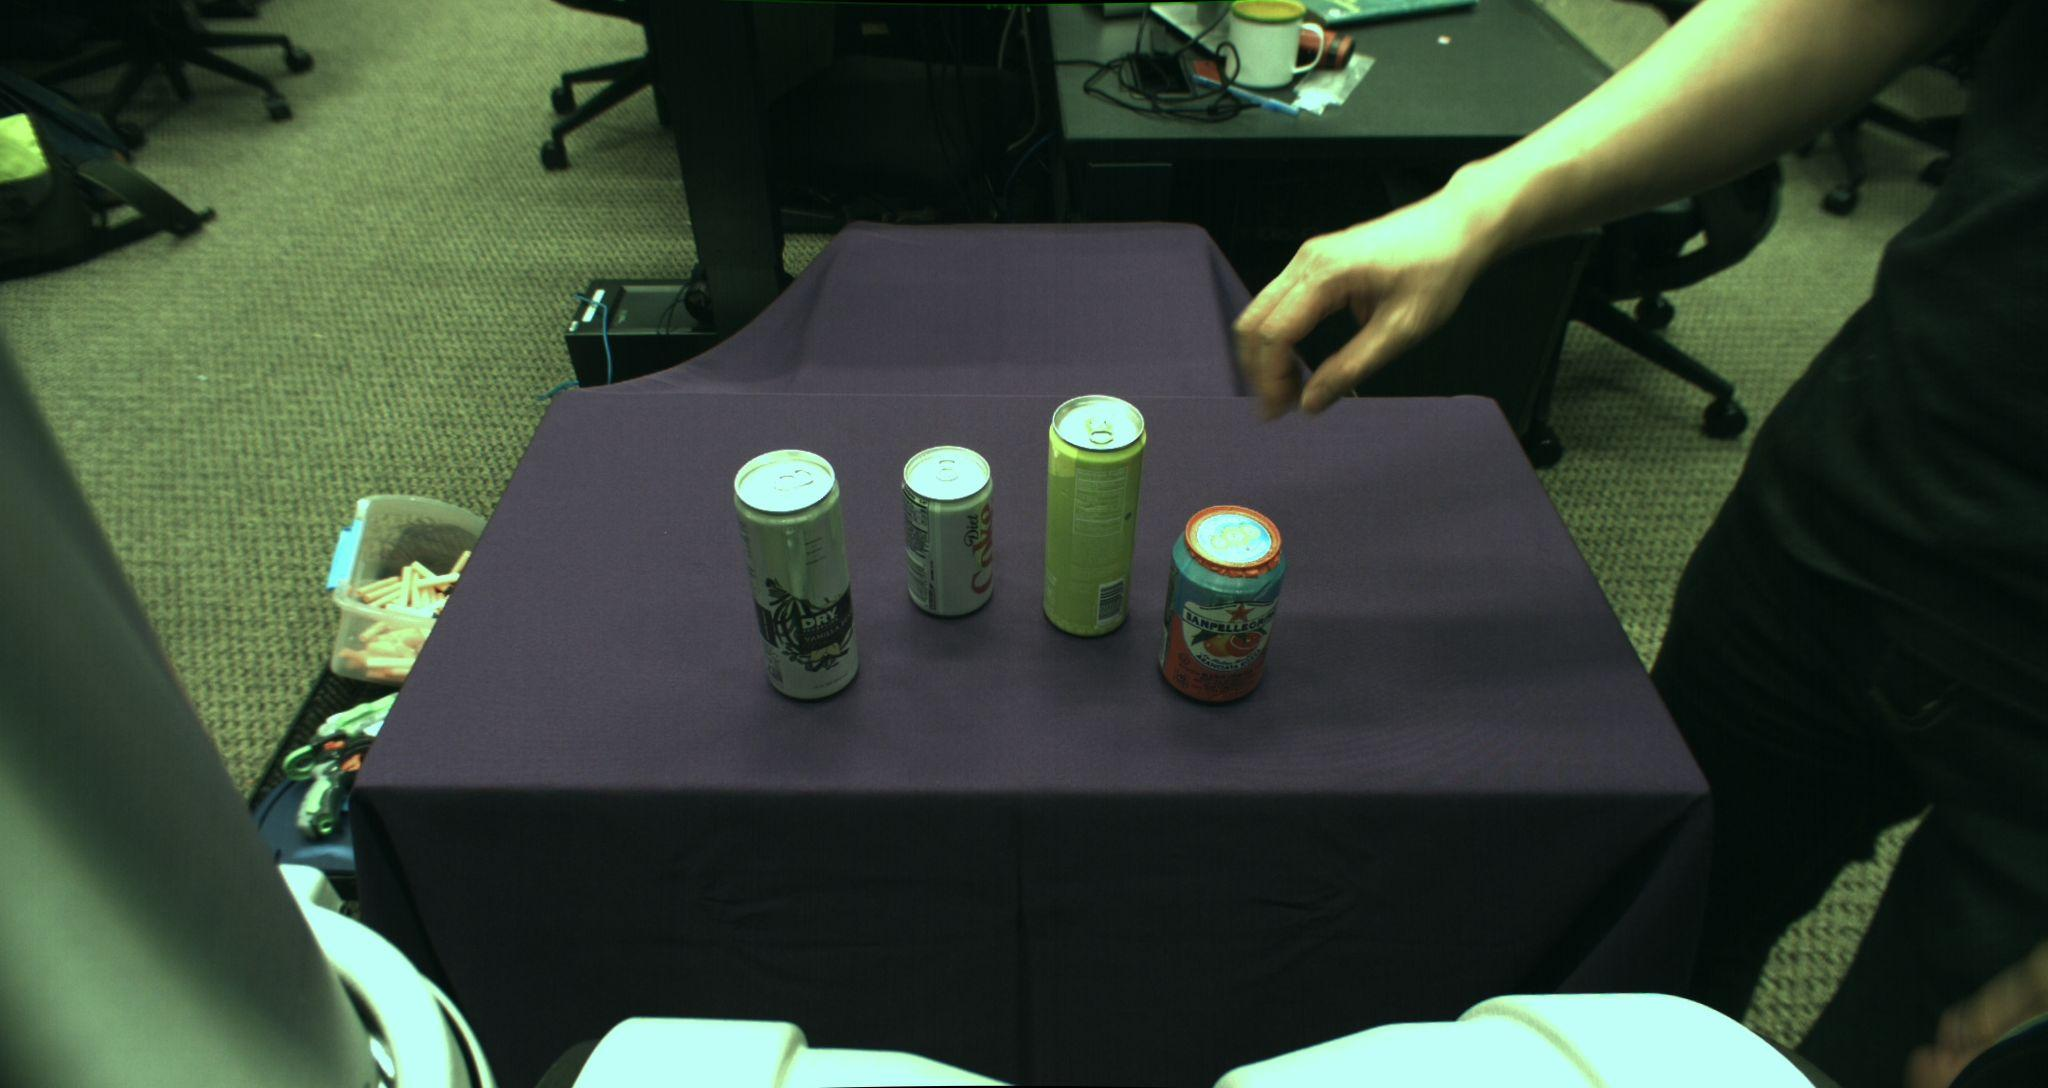can_diet_coke_small: (899, 444, 994, 616)
can_dry_sparkling_vanilla_bean: (731, 448, 860, 700)
can_izze_fusions_lemon_lime: (1042, 396, 1146, 637)
can_sanpellegrino_blood_orange: (1155, 503, 1285, 706)
